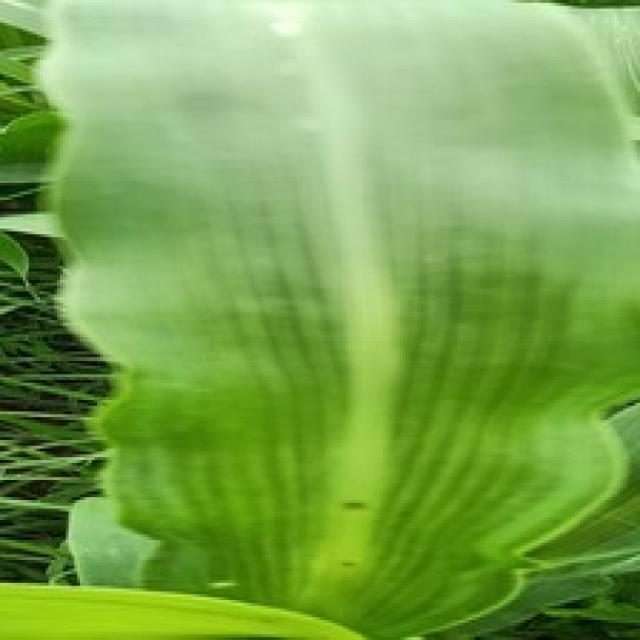Corn: (0, 0, 637, 637), (0, 574, 431, 637)
